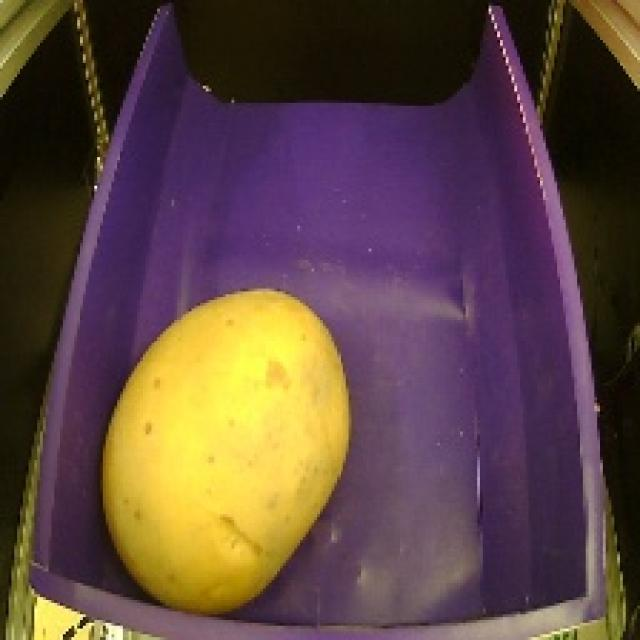full_potato: (79, 278, 358, 617)
